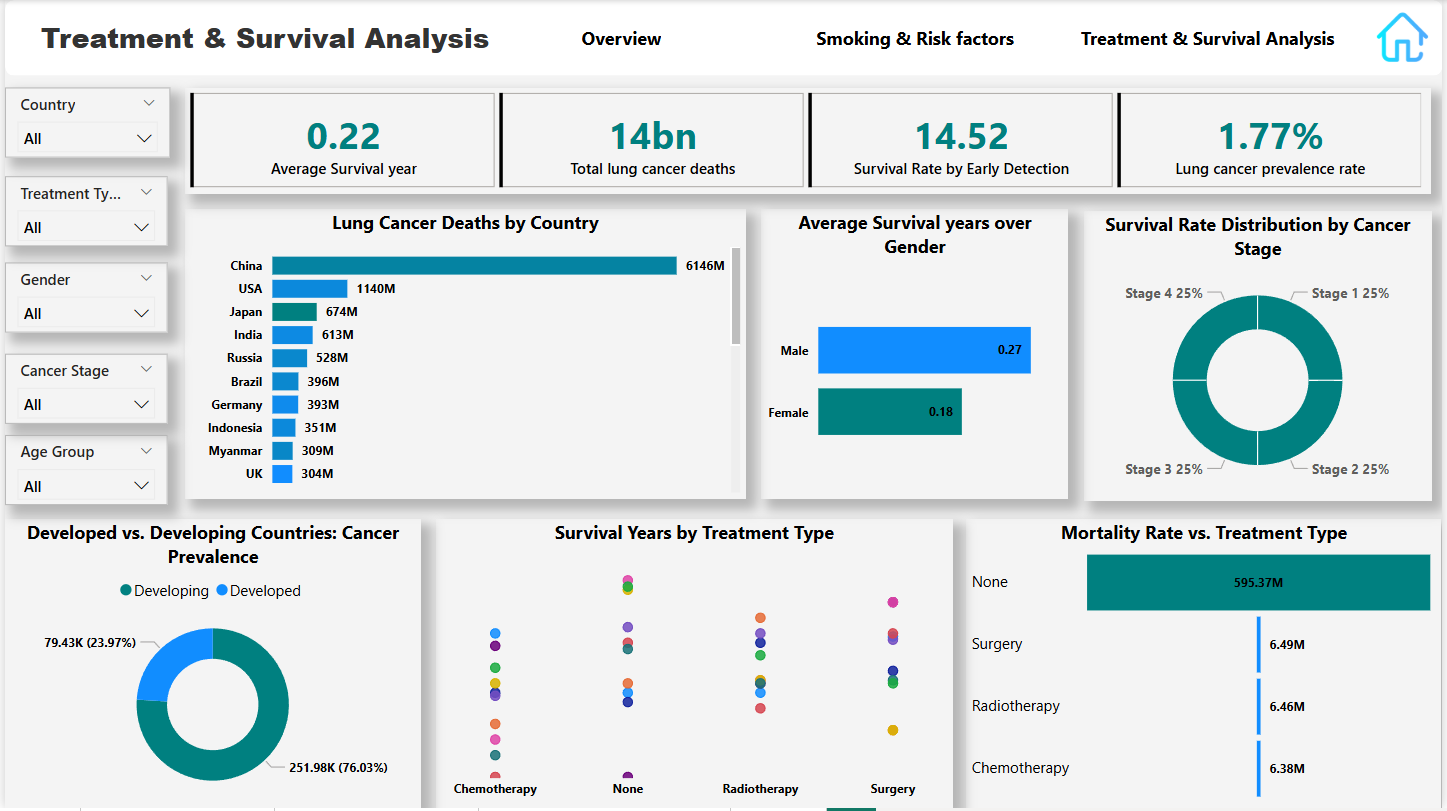

The page's visual inventory and layout, read from the dashboard file:
{"tool":"powerbi","page":{"name":"Treatment & Survival Analysis","canvas":[1280,720],"ordinal":3},"visuals":[{"type":"cardVisual","fields":{"Data":["_Measures.Average Survival year","_Measures.Total lung cancer deaths","_Measures.Survival Rate by Early Detection","_Measures.Lung cancer prevalence rate"]},"box":[160.5,78.4,1109.9,94.1],"z":0},{"type":"shape","box":[0,0,1280,67.6],"z":1000},{"type":"textbox","box":[8.4,10.9,445.2,44.6],"z":2000},{"type":"slicer","fields":{"Values":["lung_cancer_Dataset.Country"]},"box":[0,78.4,147.2,62.7],"z":3000},{"type":"slicer","fields":{"Values":["lung_cancer_Dataset.Treatment_Type"]},"box":[0,156.8,144.8,62.7],"z":4000},{"type":"slicer","fields":{"Values":["lung_cancer_Dataset.Gender"]},"box":[0,234,144.8,62.7],"z":5000},{"type":"slicer","fields":{"Values":["lung_cancer_Dataset.Cancer_Stage"]},"box":[0,314.9,144.8,62.7],"z":6000},{"type":"slicer","fields":{"Values":["lung_cancer_Dataset.Age Group"]},"box":[0,387.3,144.8,62.7],"z":7000},{"type":"actionButton","box":[439.1,10.9,220.8,44.6],"z":8000},{"type":"actionButton","box":[686.5,10.9,247.3,44.6],"z":9000},{"type":"actionButton","box":[947.1,10.9,247.3,44.6],"z":10000},{"type":"clusteredBarChart","fields":{"Category":["lung_cancer_Dataset.Country"],"Y":["_Measures.Total lung cancer deaths"]},"box":[160.5,185.8,499.5,258.2],"z":11000},{"type":"scatterChart","title":"Survival Years by Treatment Type","fields":{"X":["lung_cancer_Dataset.Treatment_Type"],"Series":["lung_cancer_Dataset.Survival_Years"],"Y":["_Measures.Total Lung Cancer cases"]},"box":[383.6,462.1,459.7,258.2],"z":12000},{"type":"donutChart","title":"Developed vs. Developing Countries: Cancer Prevalence","fields":{"Y":["Sum(lung_cancer_Dataset.Lung_Cancer_Prevalence_Rate)"],"Category":["lung_cancer_Dataset.Developed_or_Developing"]},"box":[0,462.1,370.4,258.2],"z":13000},{"type":"funnel","title":"Mortality Rate vs. Treatment Type","fields":{"Category":["lung_cancer_Dataset.Treatment_Type"],"Y":["_Measures.Mortality rate of lung cancer patients"]},"box":[856.6,462.1,423.5,258.2],"z":14000},{"type":"donutChart","title":"Survival Rate Distribution by Cancer Stage","fields":{"Category":["lung_cancer_Dataset.Cancer_Stage"],"Y":["_Measures.survival rate"]},"box":[960.3,188.2,310.1,258.2],"z":15000},{"type":"clusteredBarChart","title":"Average Survival years over Gender","fields":{"Y":["Avg(lung_cancer_Dataset.Survival_Years)"],"Category":["lung_cancer_Dataset.Gender"]},"box":[673.2,185.8,273.9,258.2],"z":16000},{"type":"image","box":[1208.9,6,71.2,55.5],"z":17000}]}

Visuals, with their boxes in screenshot pixels (x1, y1, x2, y2), scaled from the page's 1280x720 canvas onto the 1447x811 screenshot:
cardVisual - _Measures.Average Survival year x _Measures.Total lung cancer deaths: box=[181, 88, 1436, 194]
shape: box=[0, 0, 1446, 76]
textbox: box=[9, 12, 513, 63]
slicer - lung_cancer_Dataset.Country: box=[0, 88, 166, 159]
slicer - lung_cancer_Dataset.Treatment_Type: box=[0, 177, 164, 247]
slicer - lung_cancer_Dataset.Gender: box=[0, 264, 164, 334]
slicer - lung_cancer_Dataset.Cancer_Stage: box=[0, 355, 164, 425]
slicer - lung_cancer_Dataset.Age Group: box=[0, 436, 164, 507]
actionButton: box=[496, 12, 746, 63]
actionButton: box=[776, 12, 1056, 63]
actionButton: box=[1071, 12, 1350, 63]
clusteredBarChart - lung_cancer_Dataset.Country x _Measures.Total lung cancer deaths: box=[181, 209, 746, 500]
"Survival Years by Treatment Type" scatterChart: box=[434, 521, 953, 810]
"Developed vs. Developing Countries: Cancer Prevalence" donutChart: box=[0, 521, 419, 810]
"Mortality Rate vs. Treatment Type" funnel: box=[968, 521, 1446, 810]
"Survival Rate Distribution by Cancer Stage" donutChart: box=[1086, 212, 1436, 503]
"Average Survival years over Gender" clusteredBarChart: box=[761, 209, 1071, 500]
image: box=[1367, 7, 1446, 69]
